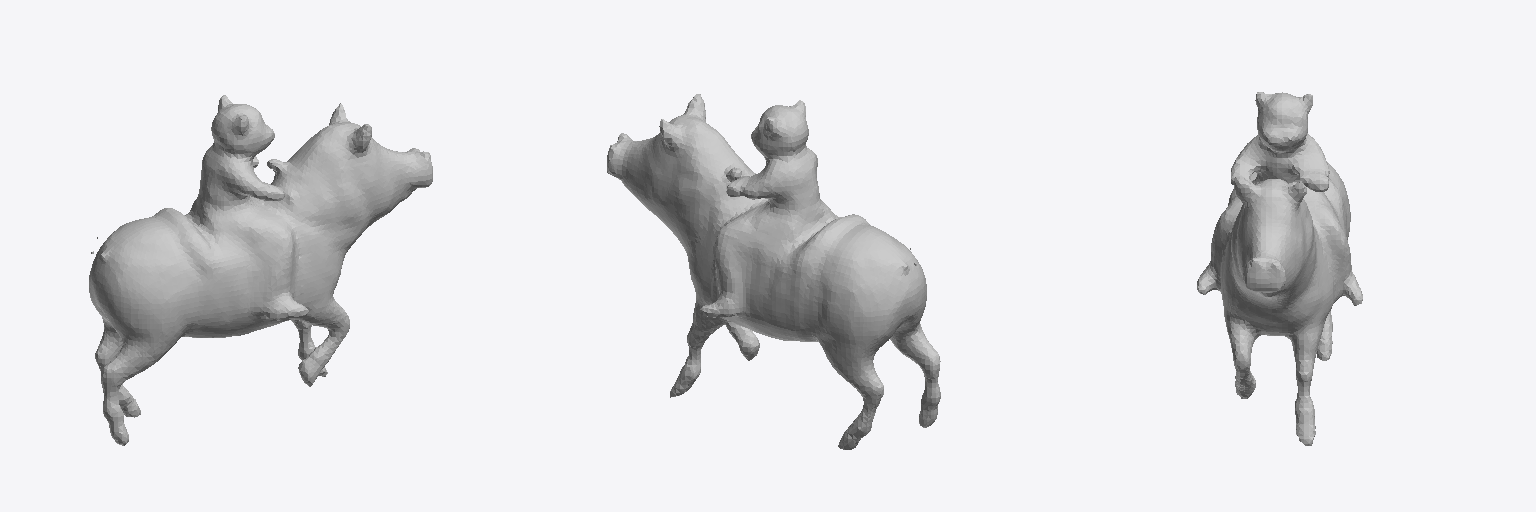
The model's file is o_pig_lo_vox.obj.
3 renders of one model, left to right at view 1: azimuth 30°, elevation 25°; view 2: azimuth 150°, elevation 25°; view 3: azimuth 270°, elevation 25°, orthographic.
Visible parts, largest first — view 1: Mesh1.007; view 2: Mesh1.007; view 3: Mesh1.007.
Part boxes in pixels (x1,y1,x2,y2): Mesh1.007: (89,95,432,445); Mesh1.007: (607,94,940,449); Mesh1.007: (1197,92,1362,445).
Bounding box in the file's own units: 6.81 × 6.12 × 3.01.